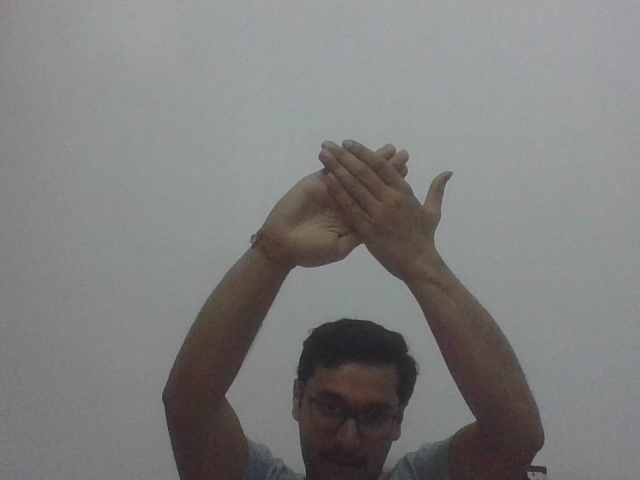H: (269, 137, 455, 278)
